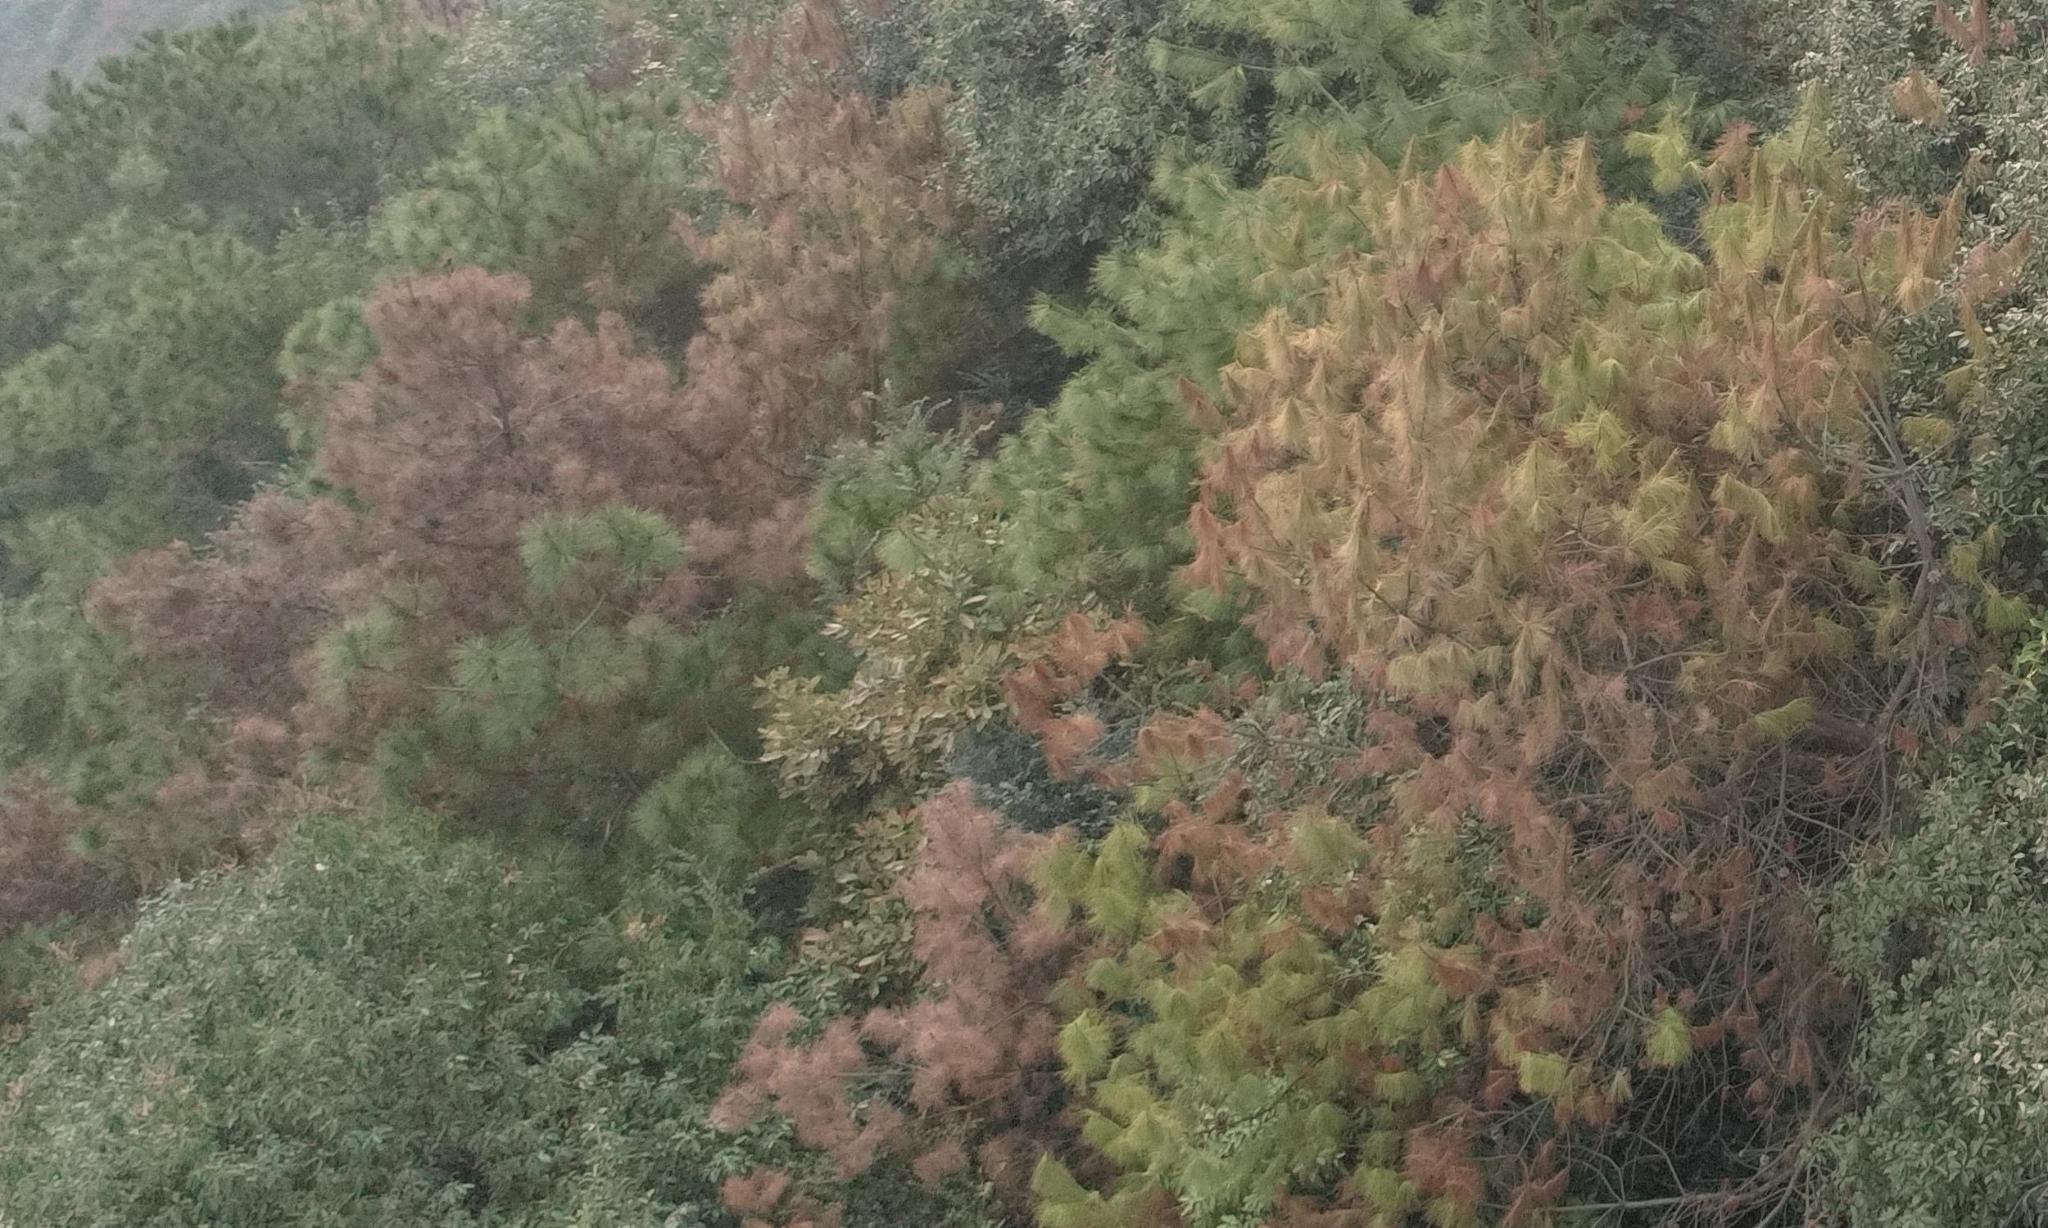heavy: (212, 7, 974, 617)
light: (1190, 173, 1946, 801), (884, 621, 1621, 1222)
